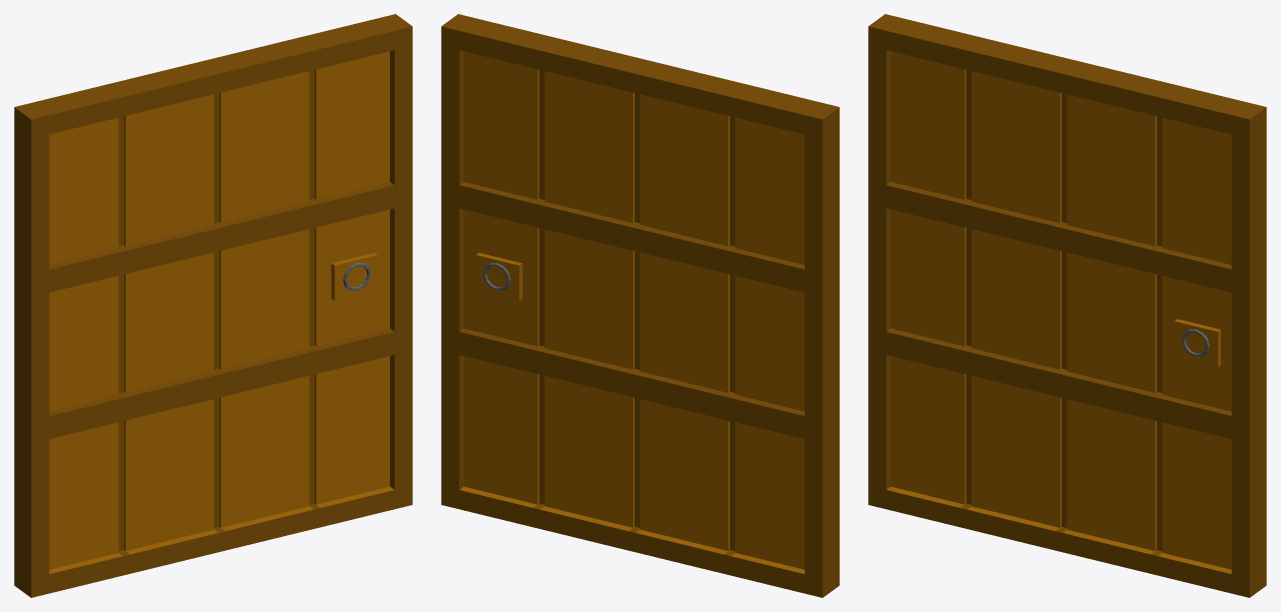
Rendered from Door_03.fbx.
3 views of the same model, side by side, from view 1: azimuth 30°, elevation 25°; view 2: azimuth 150°, elevation 25°; view 3: azimuth 330°, elevation 25° (orthographic).
Parts seen in each view (by area): view 1: Door_03; view 2: Door_03; view 3: Door_03.
Boxes of the visible parts, x1,y1,x2,y2 form: Door_03: [14, 14, 412, 597]; Door_03: [441, 14, 839, 597]; Door_03: [868, 14, 1266, 597].
Bounding box in the file's own units: 169 × 203 × 13.1.
